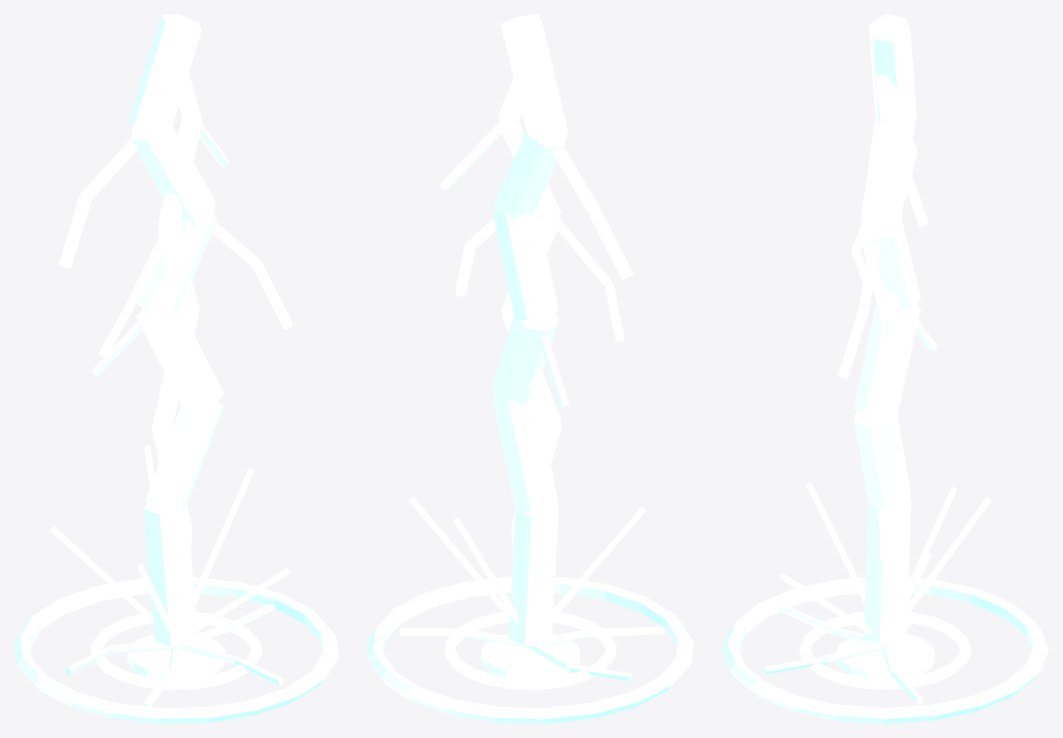
The model's file is effect-lightning.glb.
3 views of the same model, side by side, from view 1: azimuth 30°, elevation 25°; view 2: azimuth 150°, elevation 25°; view 3: azimuth 270°, elevation 25° (orthographic).
Parts seen in each view (by area): view 1: main_glow_1, impact_ring_outer, main_bolt_2, impact_ring_inner, impact_disc, branch_1, branch_2, branch_2b, spark_0, spark_1, ground_crack_2, ground_crack_1 (+4 smaller); view 2: main_glow_1, impact_ring_outer, main_bolt_2, impact_ring_inner, impact_disc, branch_1, branch_2b, spark_0, ground_crack_0, ground_crack_3, branch_2, branch_2a (+5 smaller); view 3: main_glow_1, impact_ring_outer, main_bolt_2, impact_ring_inner, impact_disc, branch_2, branch_2a, spark_4, ground_crack_2, spark_3, ground_crack_3, spark_2 (+3 smaller).
Boxes of the visible parts, left/top/right/bottom form: main_glow_1: left=129, top=14, right=223, bottom=646; impact_ring_outer: left=14, top=577, right=338, bottom=723; main_bolt_2: left=151, top=73, right=202, bottom=556; impact_ring_inner: left=90, top=612, right=262, bottom=690; impact_disc: left=127, top=634, right=225, bottom=678; branch_1: left=58, top=131, right=144, bottom=268; branch_2: left=209, top=216, right=292, bottom=329; branch_2b: left=98, top=228, right=170, bottom=357; spark_0: left=194, top=468, right=254, bottom=604; spark_1: left=50, top=526, right=153, bottom=624; ground_crack_2: left=179, top=643, right=284, bottom=685; ground_crack_1: left=65, top=642, right=172, bottom=674; main_glow_1: left=491, top=14, right=567, bottom=646; impact_ring_outer: left=367, top=576, right=693, bottom=723; main_bolt_2: left=498, top=78, right=561, bottom=550; impact_ring_inner: left=444, top=612, right=616, bottom=689; impact_disc: left=481, top=633, right=579, bottom=678; branch_1: left=547, top=134, right=633, bottom=279; branch_2b: left=555, top=217, right=624, bottom=342; spark_0: left=409, top=497, right=509, bottom=620; ground_crack_0: left=400, top=627, right=529, bottom=648; ground_crack_3: left=541, top=626, right=665, bottom=646; branch_2: left=455, top=218, right=496, bottom=296; branch_2a: left=440, top=121, right=503, bottom=191; main_glow_1: left=853, top=14, right=920, bottom=644; impact_ring_outer: left=722, top=577, right=1048, bottom=723; main_bolt_2: left=874, top=73, right=902, bottom=584; impact_ring_inner: left=799, top=611, right=971, bottom=689; impact_disc: left=836, top=634, right=934, bottom=678; branch_2: left=837, top=224, right=885, bottom=378; branch_2a: left=888, top=136, right=928, bottom=226; spark_4: left=903, top=497, right=991, bottom=619; ground_crack_2: left=764, top=642, right=882, bottom=674; spark_3: left=805, top=482, right=865, bottom=604; ground_crack_3: left=779, top=605, right=874, bottom=643; spark_2: left=780, top=573, right=871, bottom=634.
Size of the model in its own units: 0.00038 by 0.000822 by 0.00038.
